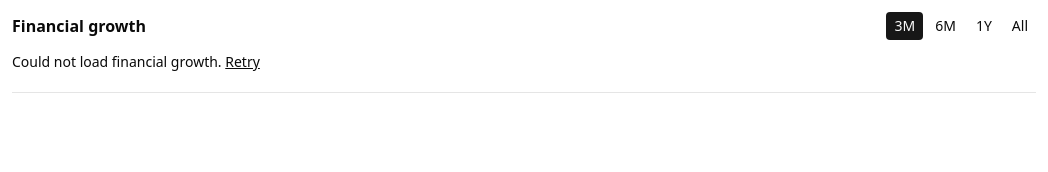
Scenario: shows endpoint errors and supports retry
Check: the message "Could not load financial growth. Retry" is shown, box [12,52,260,72]
What coordinates should you click on to do the following:
click the button "Retry"
I would click on:
 (243, 62)
Its box is [225,52,260,72].
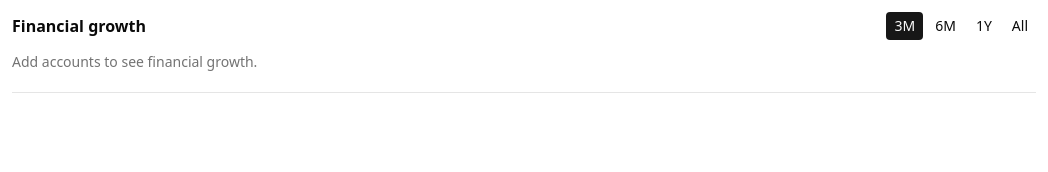
Check: the text "Add accounts to see financial growth." is shown, box [12,52,257,71]
